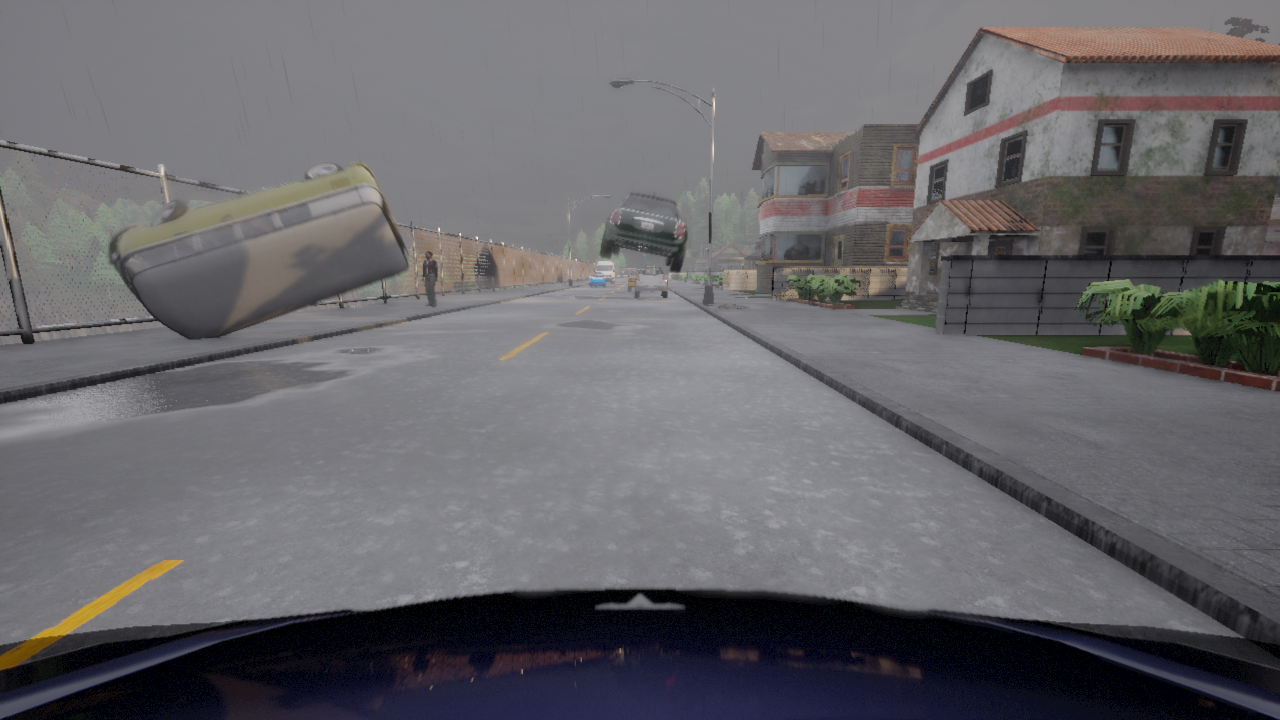cyclist: (0, 588, 1279, 719), (108, 162, 408, 338), (600, 193, 687, 272), (633, 267, 667, 297), (594, 265, 614, 277), (590, 272, 605, 286), (627, 271, 638, 286)
pedestrian: (422, 251, 437, 306)
